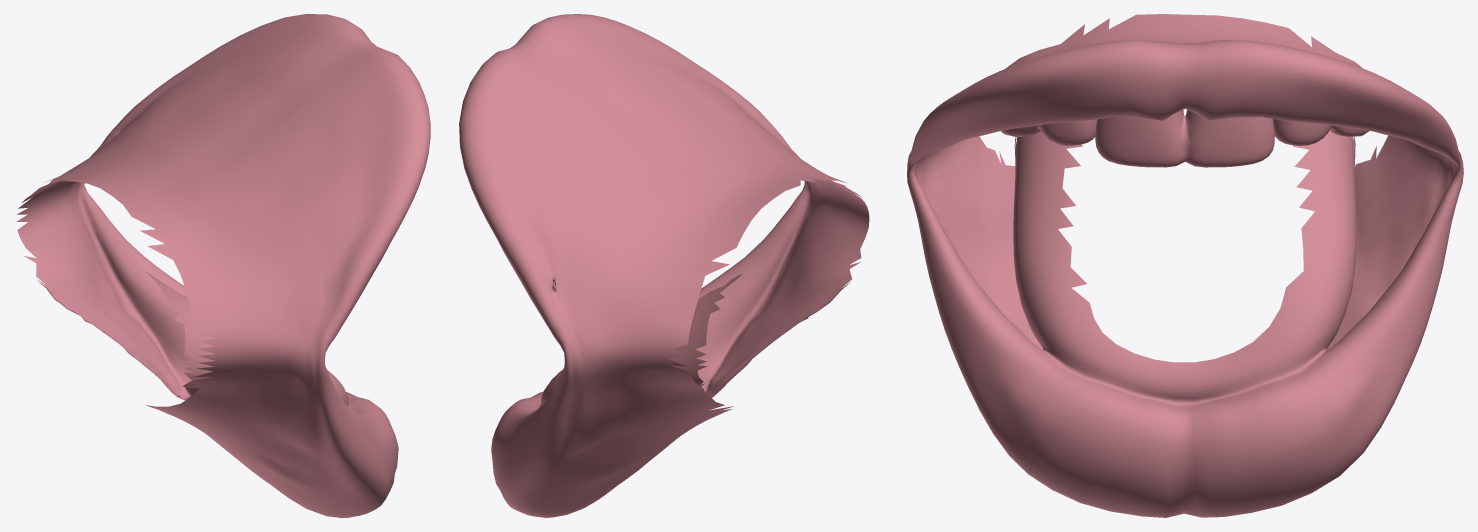
File: realistic-open-mouth-lips-wide.glb
3 renders of one model, left to right at view 1: azimuth 30°, elevation 25°; view 2: azimuth 150°, elevation 25°; view 3: azimuth 270°, elevation 25°, orthographic. The views are drawn at different scales.
Visible parts, largest first — view 1: lips-wide; view 2: lips-wide; view 3: lips-wide.
Boxes of the visible parts, x1=… form: lips-wide: x1=16, y1=14, x2=430, y2=517; lips-wide: x1=459, y1=14, x2=869, y2=517; lips-wide: x1=907, y1=14, x2=1463, y2=517.
Bounding box in the file's own units: 0.6322 × 0.9483 × 0.9448.
